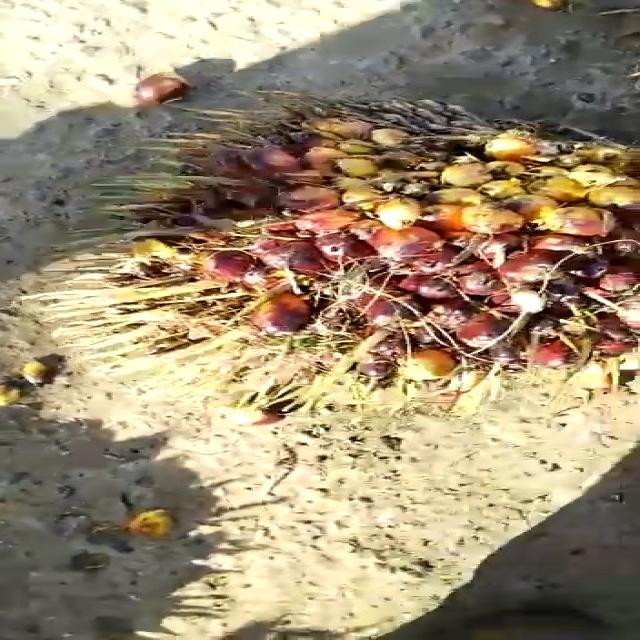palm oil: (99, 91, 640, 388)
